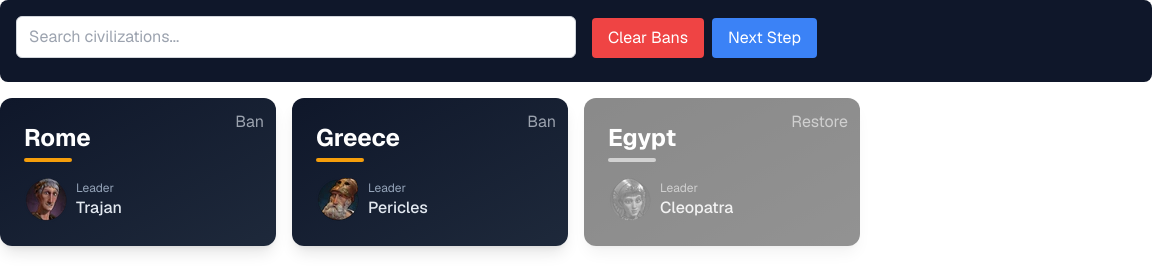
Scenario: CivList › should filter civs by leader name
The width and height of the screenshot is (1152, 272).
Type "Trajan" into the field with placeholder "Search civilizations...". click: [296, 37]
box: [16, 16, 576, 58]
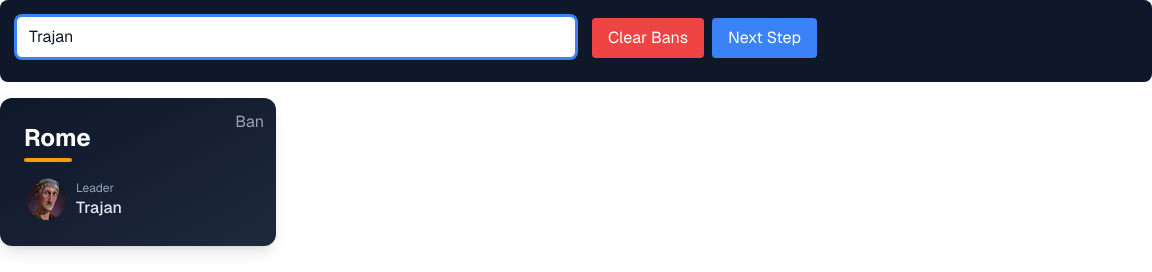
expect the heading "Rome" is shown: met, box [24, 122, 91, 153]
expect the heading "Greece" is gone: met
